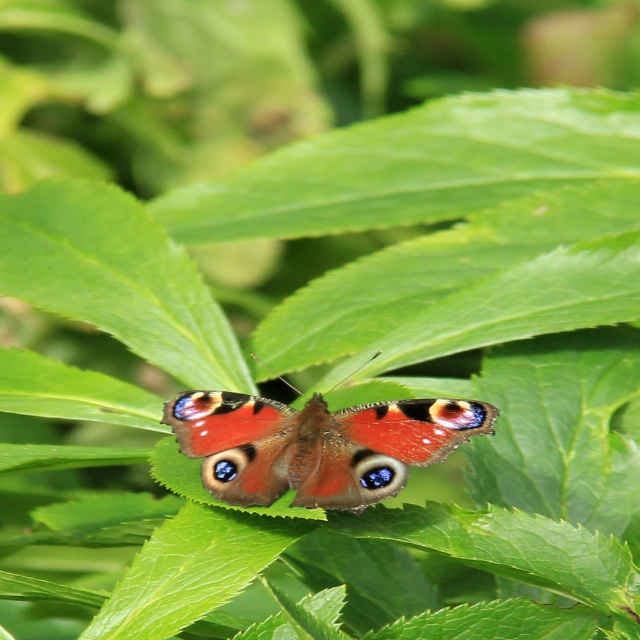Butterfly: (145, 359, 500, 532)
